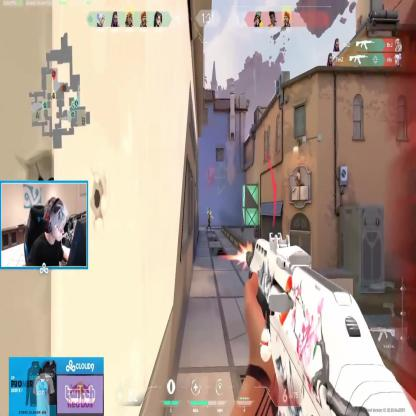enemy: (206, 208, 212, 232)
enemy_head: (208, 208, 210, 212)
